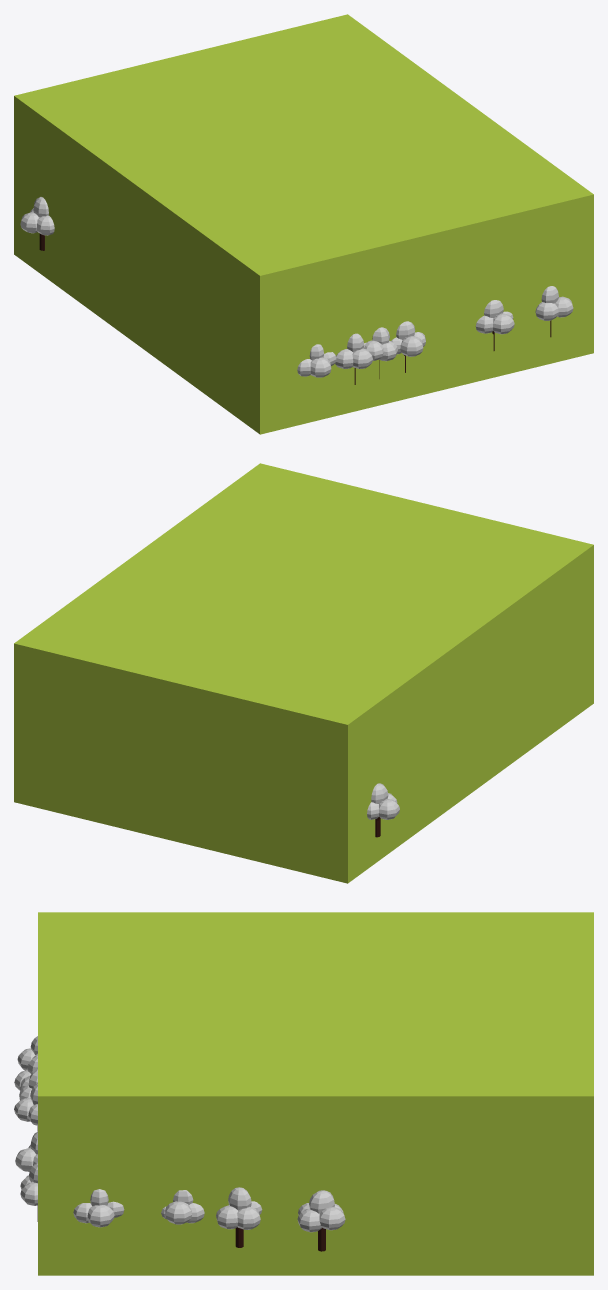
The model's file is Map_1.obj.
3 renders of one model, top to bottom at view 1: azimuth 30°, elevation 25°; view 2: azimuth 150°, elevation 25°; view 3: azimuth 270°, elevation 25°, orthographic. The views are drawn at different scales.
Parts seen in each view (by area): view 1: Barrier, Tree.007, Tree.025, Tree.006, Tree.010, Tree.011, Tree.008, Tree.009; view 2: Barrier, Tree.025; view 3: Barrier, Tree.002, Tree.003, Tree.005, Tree.004, Tree.008, Tree.006, Tree.007.
Part boxes in pixels (bbox=[...]): Barrier: bbox=[14, 14, 593, 434]; Tree.007: bbox=[475, 300, 514, 350]; Tree.025: bbox=[20, 197, 54, 250]; Tree.006: bbox=[535, 286, 573, 337]; Tree.010: bbox=[335, 333, 372, 384]; Tree.011: bbox=[297, 344, 336, 377]; Tree.008: bbox=[391, 321, 425, 372]; Tree.009: bbox=[364, 327, 398, 378]; Barrier: bbox=[14, 463, 593, 883]; Tree.025: bbox=[367, 783, 399, 837]; Barrier: bbox=[38, 912, 593, 1275]; Tree.002: bbox=[297, 1190, 345, 1251]; Tree.003: bbox=[216, 1187, 262, 1247]; Tree.005: bbox=[73, 1189, 124, 1227]; Tree.004: bbox=[161, 1190, 204, 1224]; Tree.008: bbox=[14, 1083, 37, 1131]; Tree.006: bbox=[20, 1163, 37, 1221]; Tree.007: bbox=[15, 1132, 37, 1171].
Size of the model in its own units: 603 by 252 by 704.
